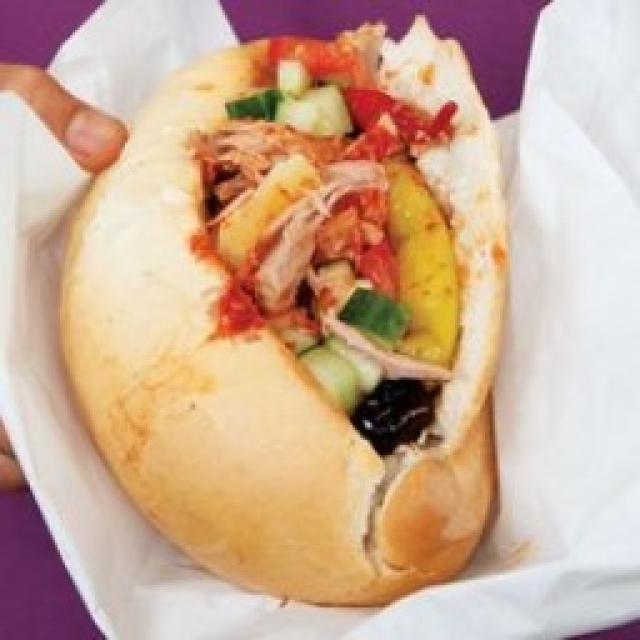Sandwitch tounsi: (52, 15, 512, 625)
